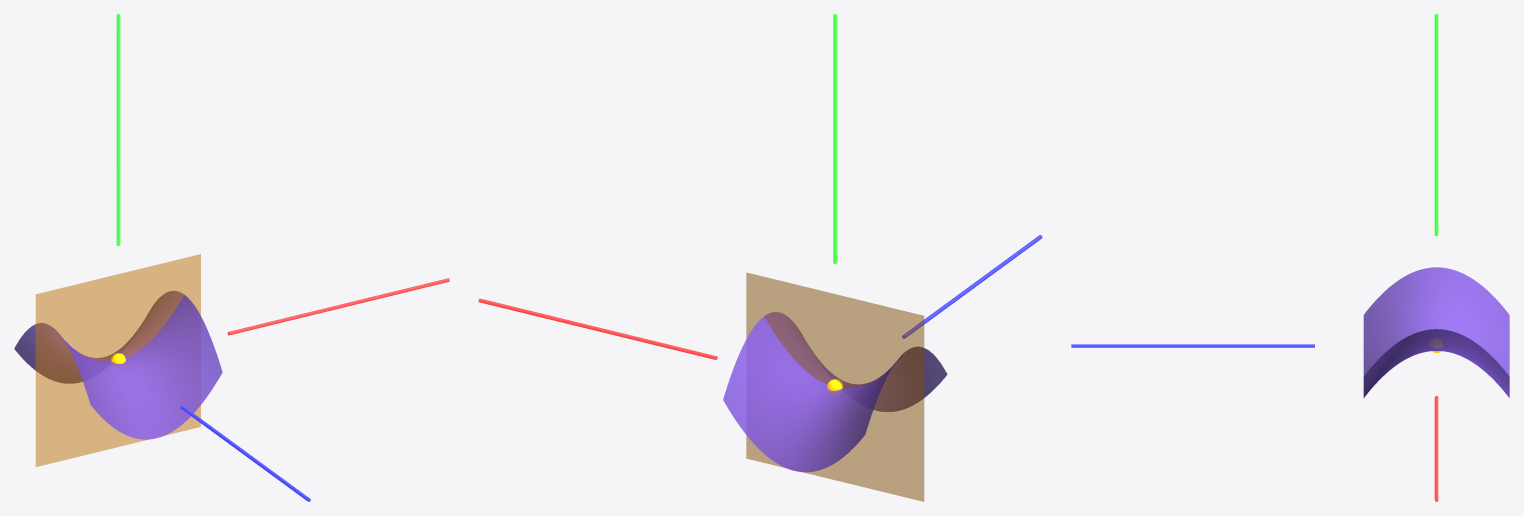
Rendered from tangent-plane-saddle.glb.
The picture shows the model from 3 angles, left to right: view 1: azimuth 30°, elevation 25°; view 2: azimuth 150°, elevation 25°; view 3: azimuth 270°, elevation 25°; orthographic projection. The views are drawn at different scales.
Bounding box in the file's own units: 1.88 × 1.88 × 1.8.
